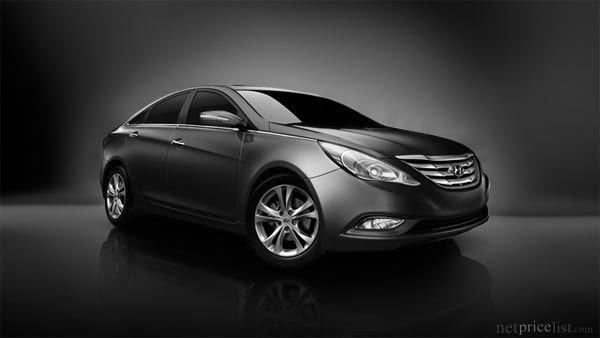car: (101, 84, 492, 272)
